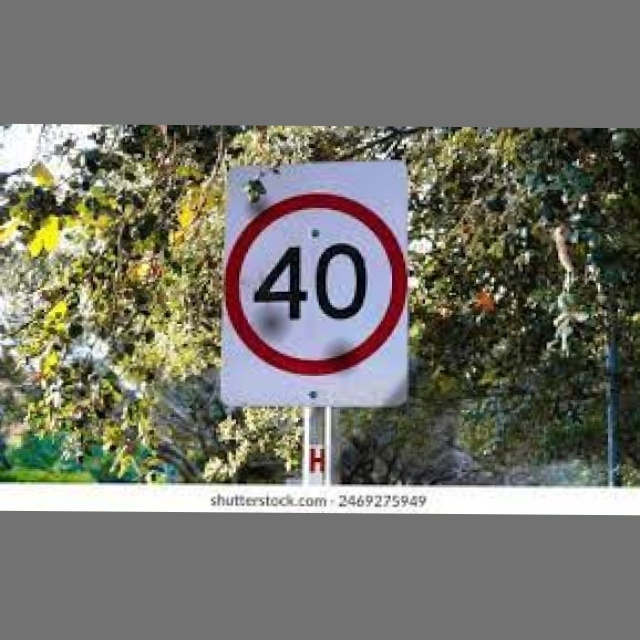Speed_Limit_40: (217, 193, 413, 379)
